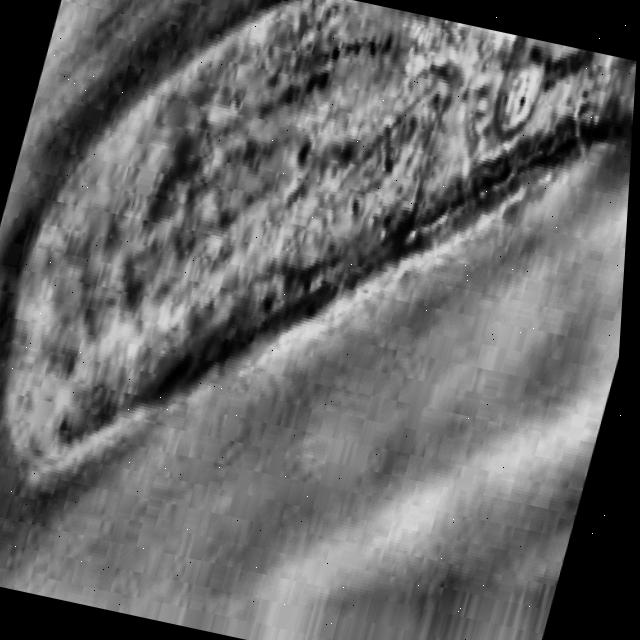Pyrilla-perpusilla: (0, 0, 640, 583)
